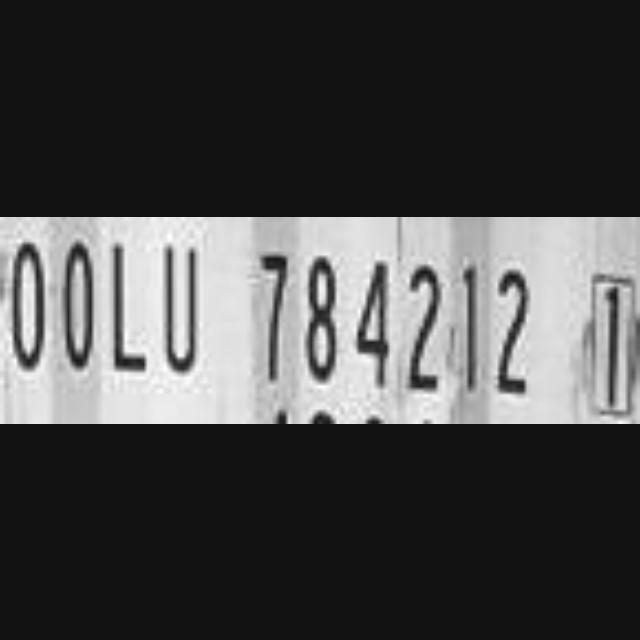1: (452, 254, 490, 401), (598, 280, 626, 412)
2: (491, 257, 541, 403), (400, 254, 450, 398)
4: (352, 248, 400, 398)
7: (252, 245, 294, 388)
8: (298, 244, 344, 390)
l: (104, 230, 154, 384)
o: (5, 219, 52, 385), (55, 230, 103, 380)
u: (155, 233, 203, 381)
